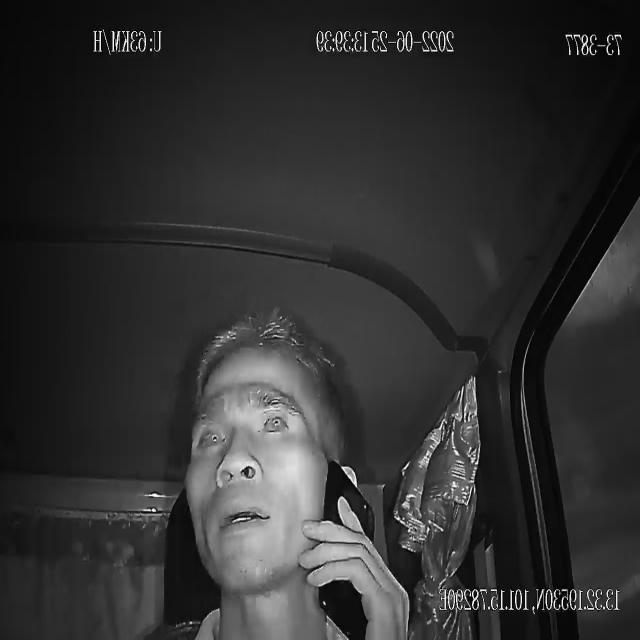phone: (317, 454, 375, 640)
